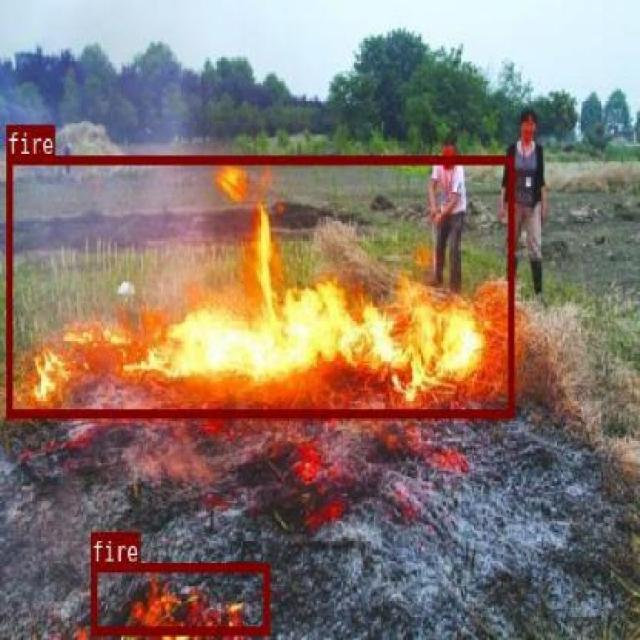Fire: (5, 155, 513, 417), (90, 563, 268, 632)
